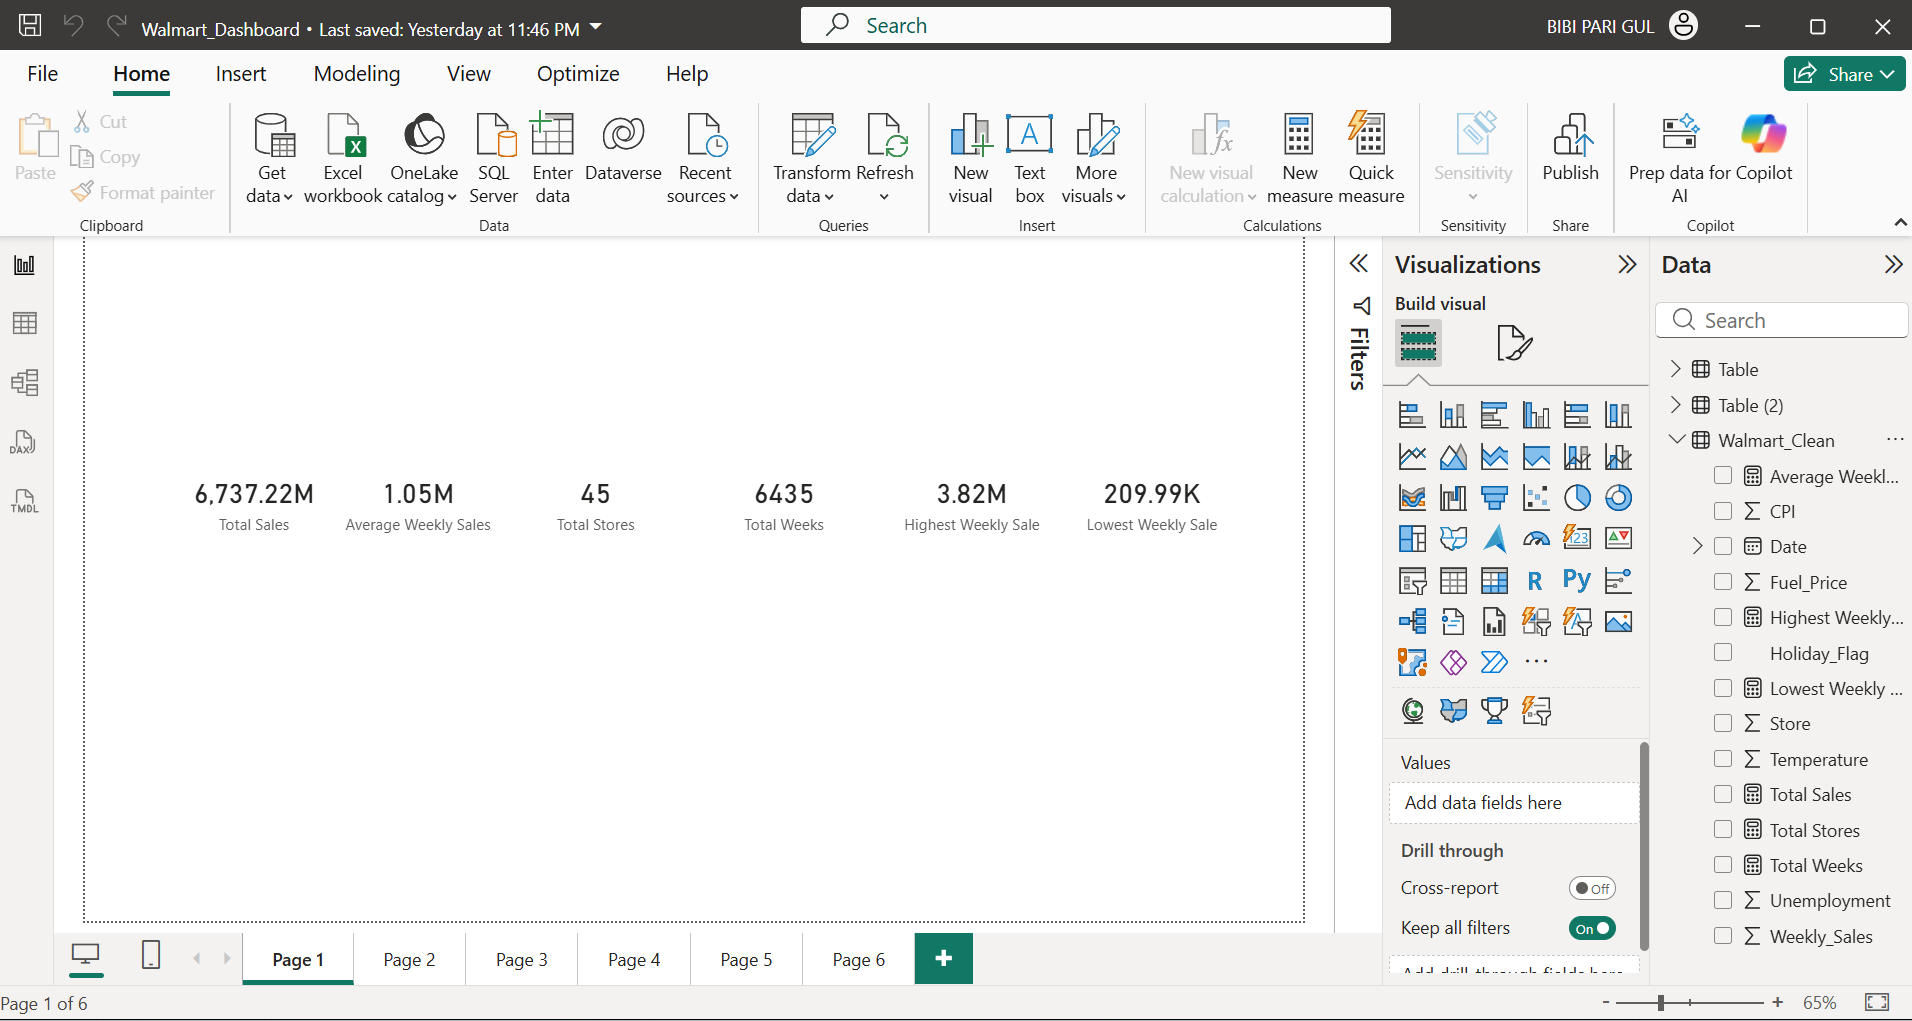

The dashboard page shown, as its layout file describes it:
{"tool":"powerbi","page":{"name":"Page 1","canvas":[1280,720],"ordinal":0},"visuals":[{"type":"card","fields":{"Values":["Walmart_Clean.Total Sales"]},"box":[63.5,186,228.9,185.9],"z":0,"group":"g1"},{"type":"card","fields":{"Values":["Walmart_Clean.Highest Weekly Sale"]},"box":[839,186,187.6,185.9],"z":1000,"group":"g1"},{"type":"card","fields":{"Values":["Walmart_Clean.Lowest Weekly Sale"]},"box":[1026.7,186,191,185.9],"z":2000,"group":"g1"},{"type":"card","fields":{"Values":["Walmart_Clean.Total Stores"]},"box":[443.2,186,187.6,185.9],"z":3000,"group":"g1"},{"type":"card","fields":{"Values":["Walmart_Clean.Average Weekly Sales"]},"box":[257.3,186,185.9,185.9],"z":4000,"group":"g1"},{"type":"card","fields":{"Values":["Walmart_Clean.Total Weeks"]},"box":[630.8,186,208.3,185.9],"z":5000,"group":"g1"},{"type":"group","id":"g1","title":"Group 1","box":[63.5,186,1154.6,186],"z":5001}]}

Visuals, with their boxes on the page's 1280x720 design canvas (x1, y1, x2, y2). These are canvas units, not pixel positions in the 1912x1021 screenshot, which may show the page scaled, cropped or inside an application window:
card - Walmart_Clean.Total Sales: (64,186,292,372)
card - Walmart_Clean.Highest Weekly Sale: (839,186,1027,372)
card - Walmart_Clean.Lowest Weekly Sale: (1027,186,1218,372)
card - Walmart_Clean.Total Stores: (443,186,631,372)
card - Walmart_Clean.Average Weekly Sales: (257,186,443,372)
card - Walmart_Clean.Total Weeks: (631,186,839,372)
"Group 1" group: (64,186,1218,372)
